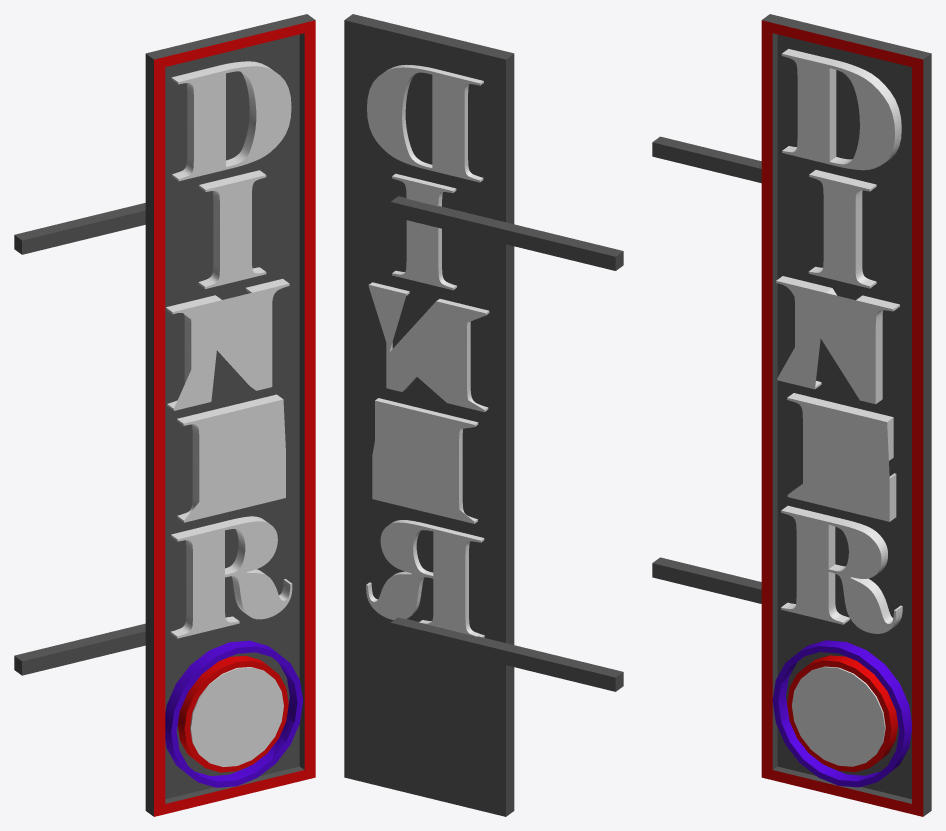
Rendered from SM_sign_diner.fbx.
3 views of the same model, side by side, from view 1: azimuth 30°, elevation 25°; view 2: azimuth 150°, elevation 25°; view 3: azimuth 330°, elevation 25° (orthographic).
Parts seen in each view (by area): view 1: pCube3, typeMesh1, pCylinder5, pCylinder4, pCube4, pCube5, pCylinder3; view 2: pCube3, typeMesh1, pCube5, pCube4; view 3: pCube3, typeMesh1, pCylinder5, pCylinder4, pCylinder3, pCube5, pCube4.
Boxes of the visible parts, x1,y1,x2,y2 form: pCube3: (145,14,315,816); typeMesh1: (166,61,292,638); pCylinder5: (190,667,283,766); pCylinder4: (165,640,303,787); pCube4: (14,623,145,675); pCube5: (14,203,145,254); pCylinder3: (177,655,288,772); pCube3: (344,14,514,816); typeMesh1: (366,64,489,637); pCube5: (390,196,623,270); pCube4: (390,617,623,691); pCube3: (761,14,931,816); typeMesh1: (776,49,902,633); pCylinder5: (792,666,885,766); pCylinder4: (772,640,911,787); pCylinder3: (787,655,897,772); pCube5: (652,136,761,183); pCube4: (652,557,761,603).
Size of the model in its own units: 14.18 by 36.36 by 1.96.
